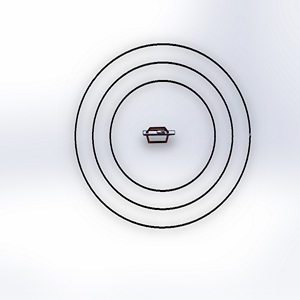circle: (71, 39, 256, 234)
submarine: (137, 116, 182, 151)
